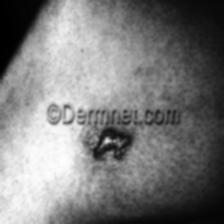Toxin: (92, 130, 132, 161)
